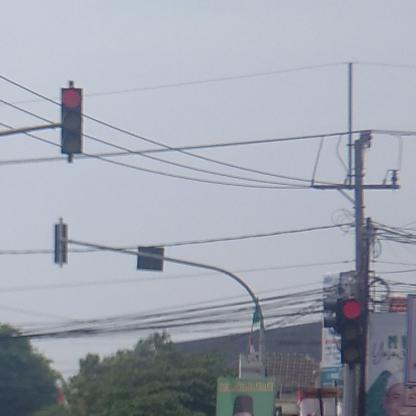red: (339, 296, 364, 364), (60, 87, 84, 156)
